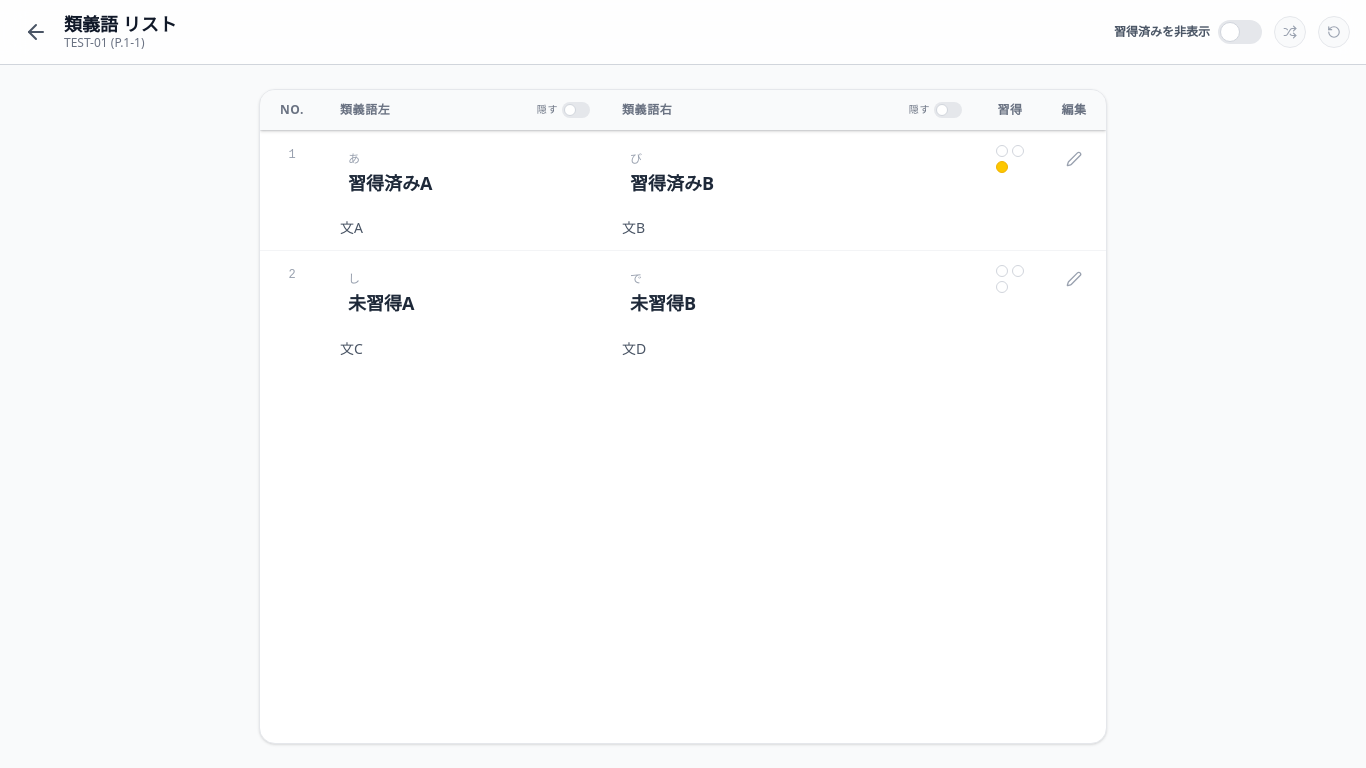
Test: WordList › 類義語カテゴリでは習得済み判定が isLearnedCategory だけで行われる
Expected: the text "習得済みA" is shown, top-left (348, 171), bottom-right (432, 195)
Click the checkbox labelled "習得済みを非表示": (1188, 32) top-left (1114, 20), bottom-right (1262, 44)
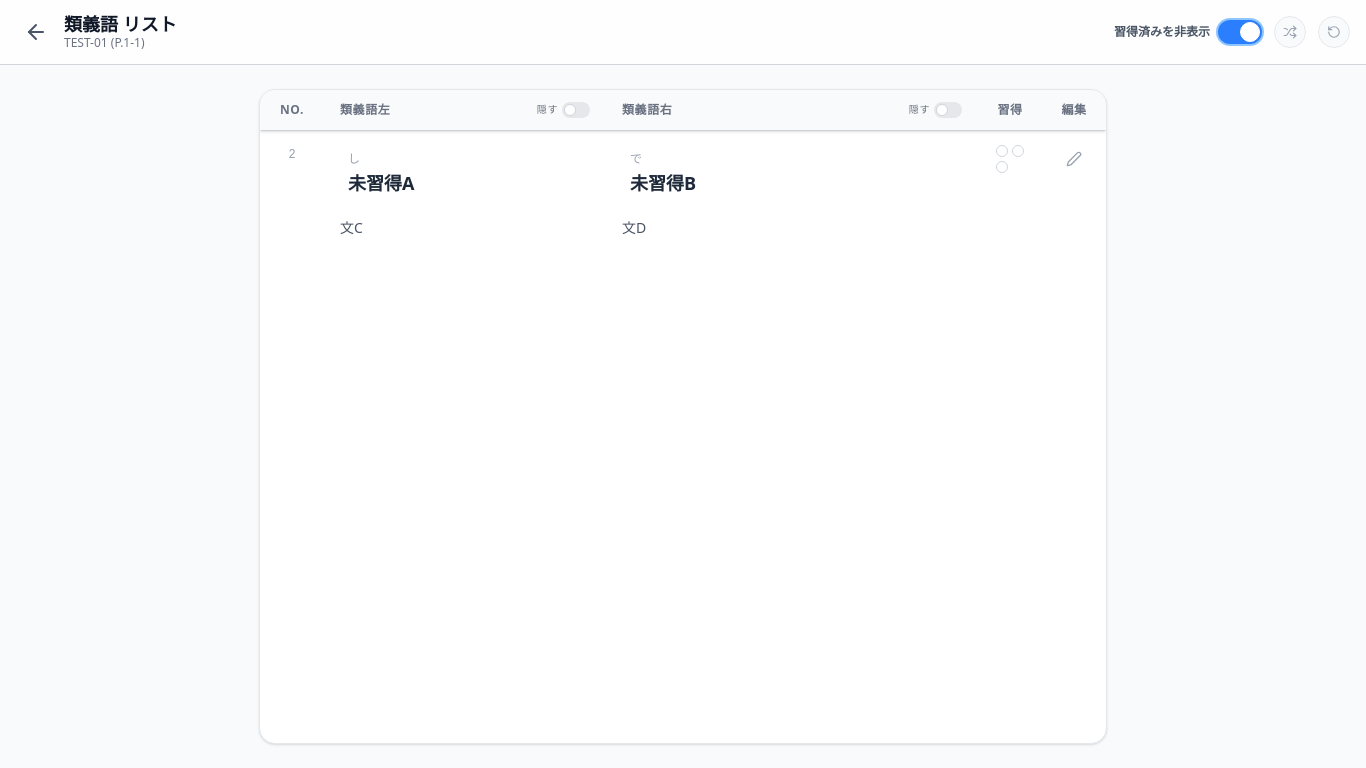
Expected: the text "未習得A" is shown, top-left (348, 171), bottom-right (414, 195)
Expected: the text "習得済みA" is gone
